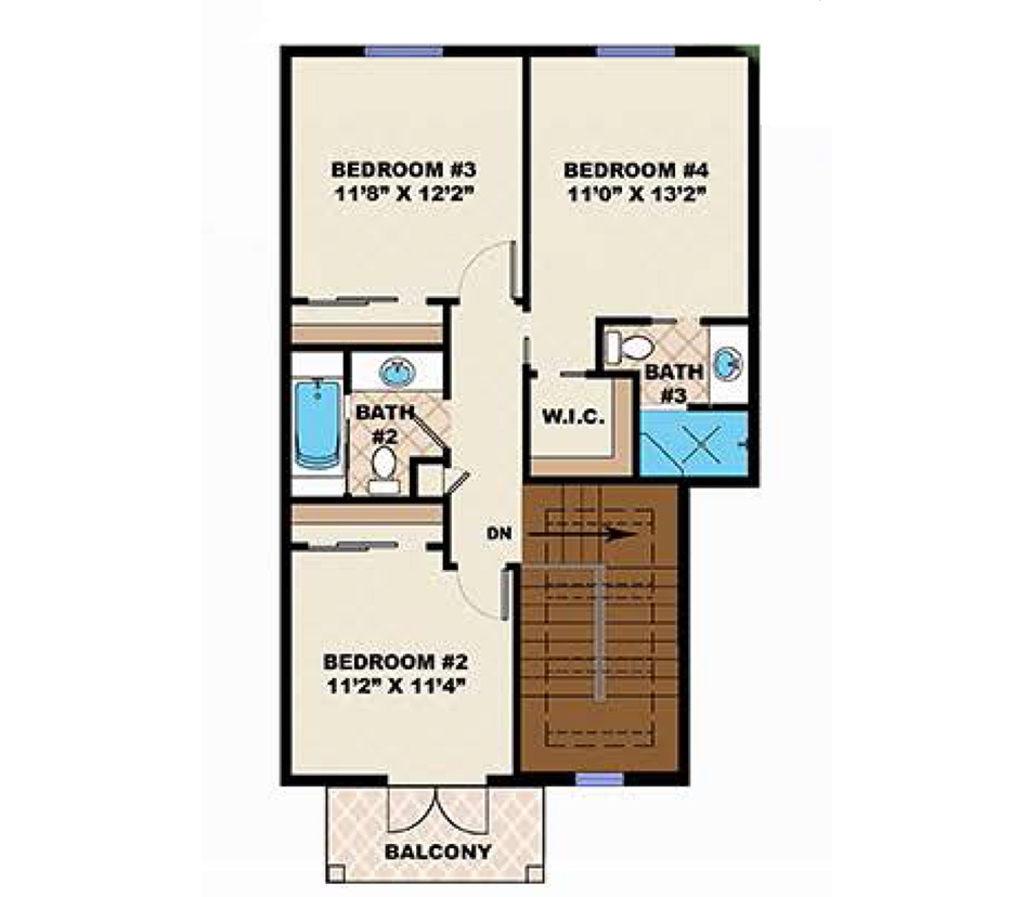door: (380, 779, 495, 839), (454, 234, 517, 306), (452, 557, 516, 625)
large_sink: (358, 442, 408, 501), (598, 328, 657, 366)
small_sink: (348, 345, 451, 397), (704, 322, 747, 401)
stairs: (516, 483, 684, 776)
tub: (289, 375, 351, 485)
